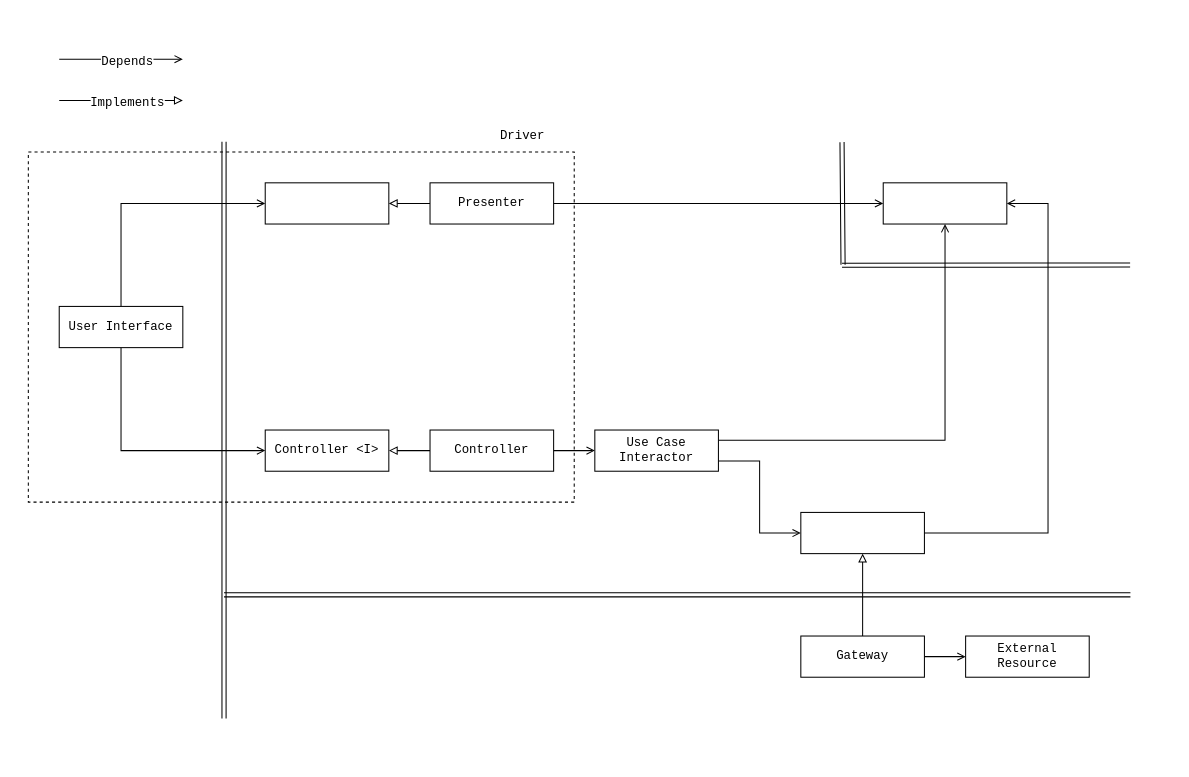
Some shapes in this 1189 by 777 pixel diagram are drawn without their labels. Here are the shapes that lost their labels. From the top down, the centre of each, then its label:
(x=326, y=203): Presenter <I>
(x=944, y=203): Entities
(x=862, y=532): Gateway<I>
